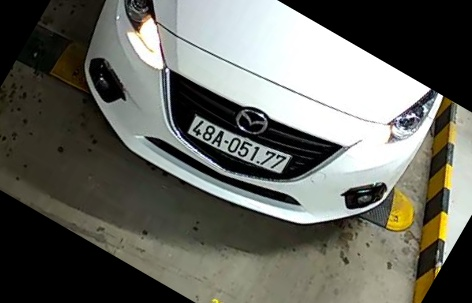plate: (189, 113, 291, 177)
